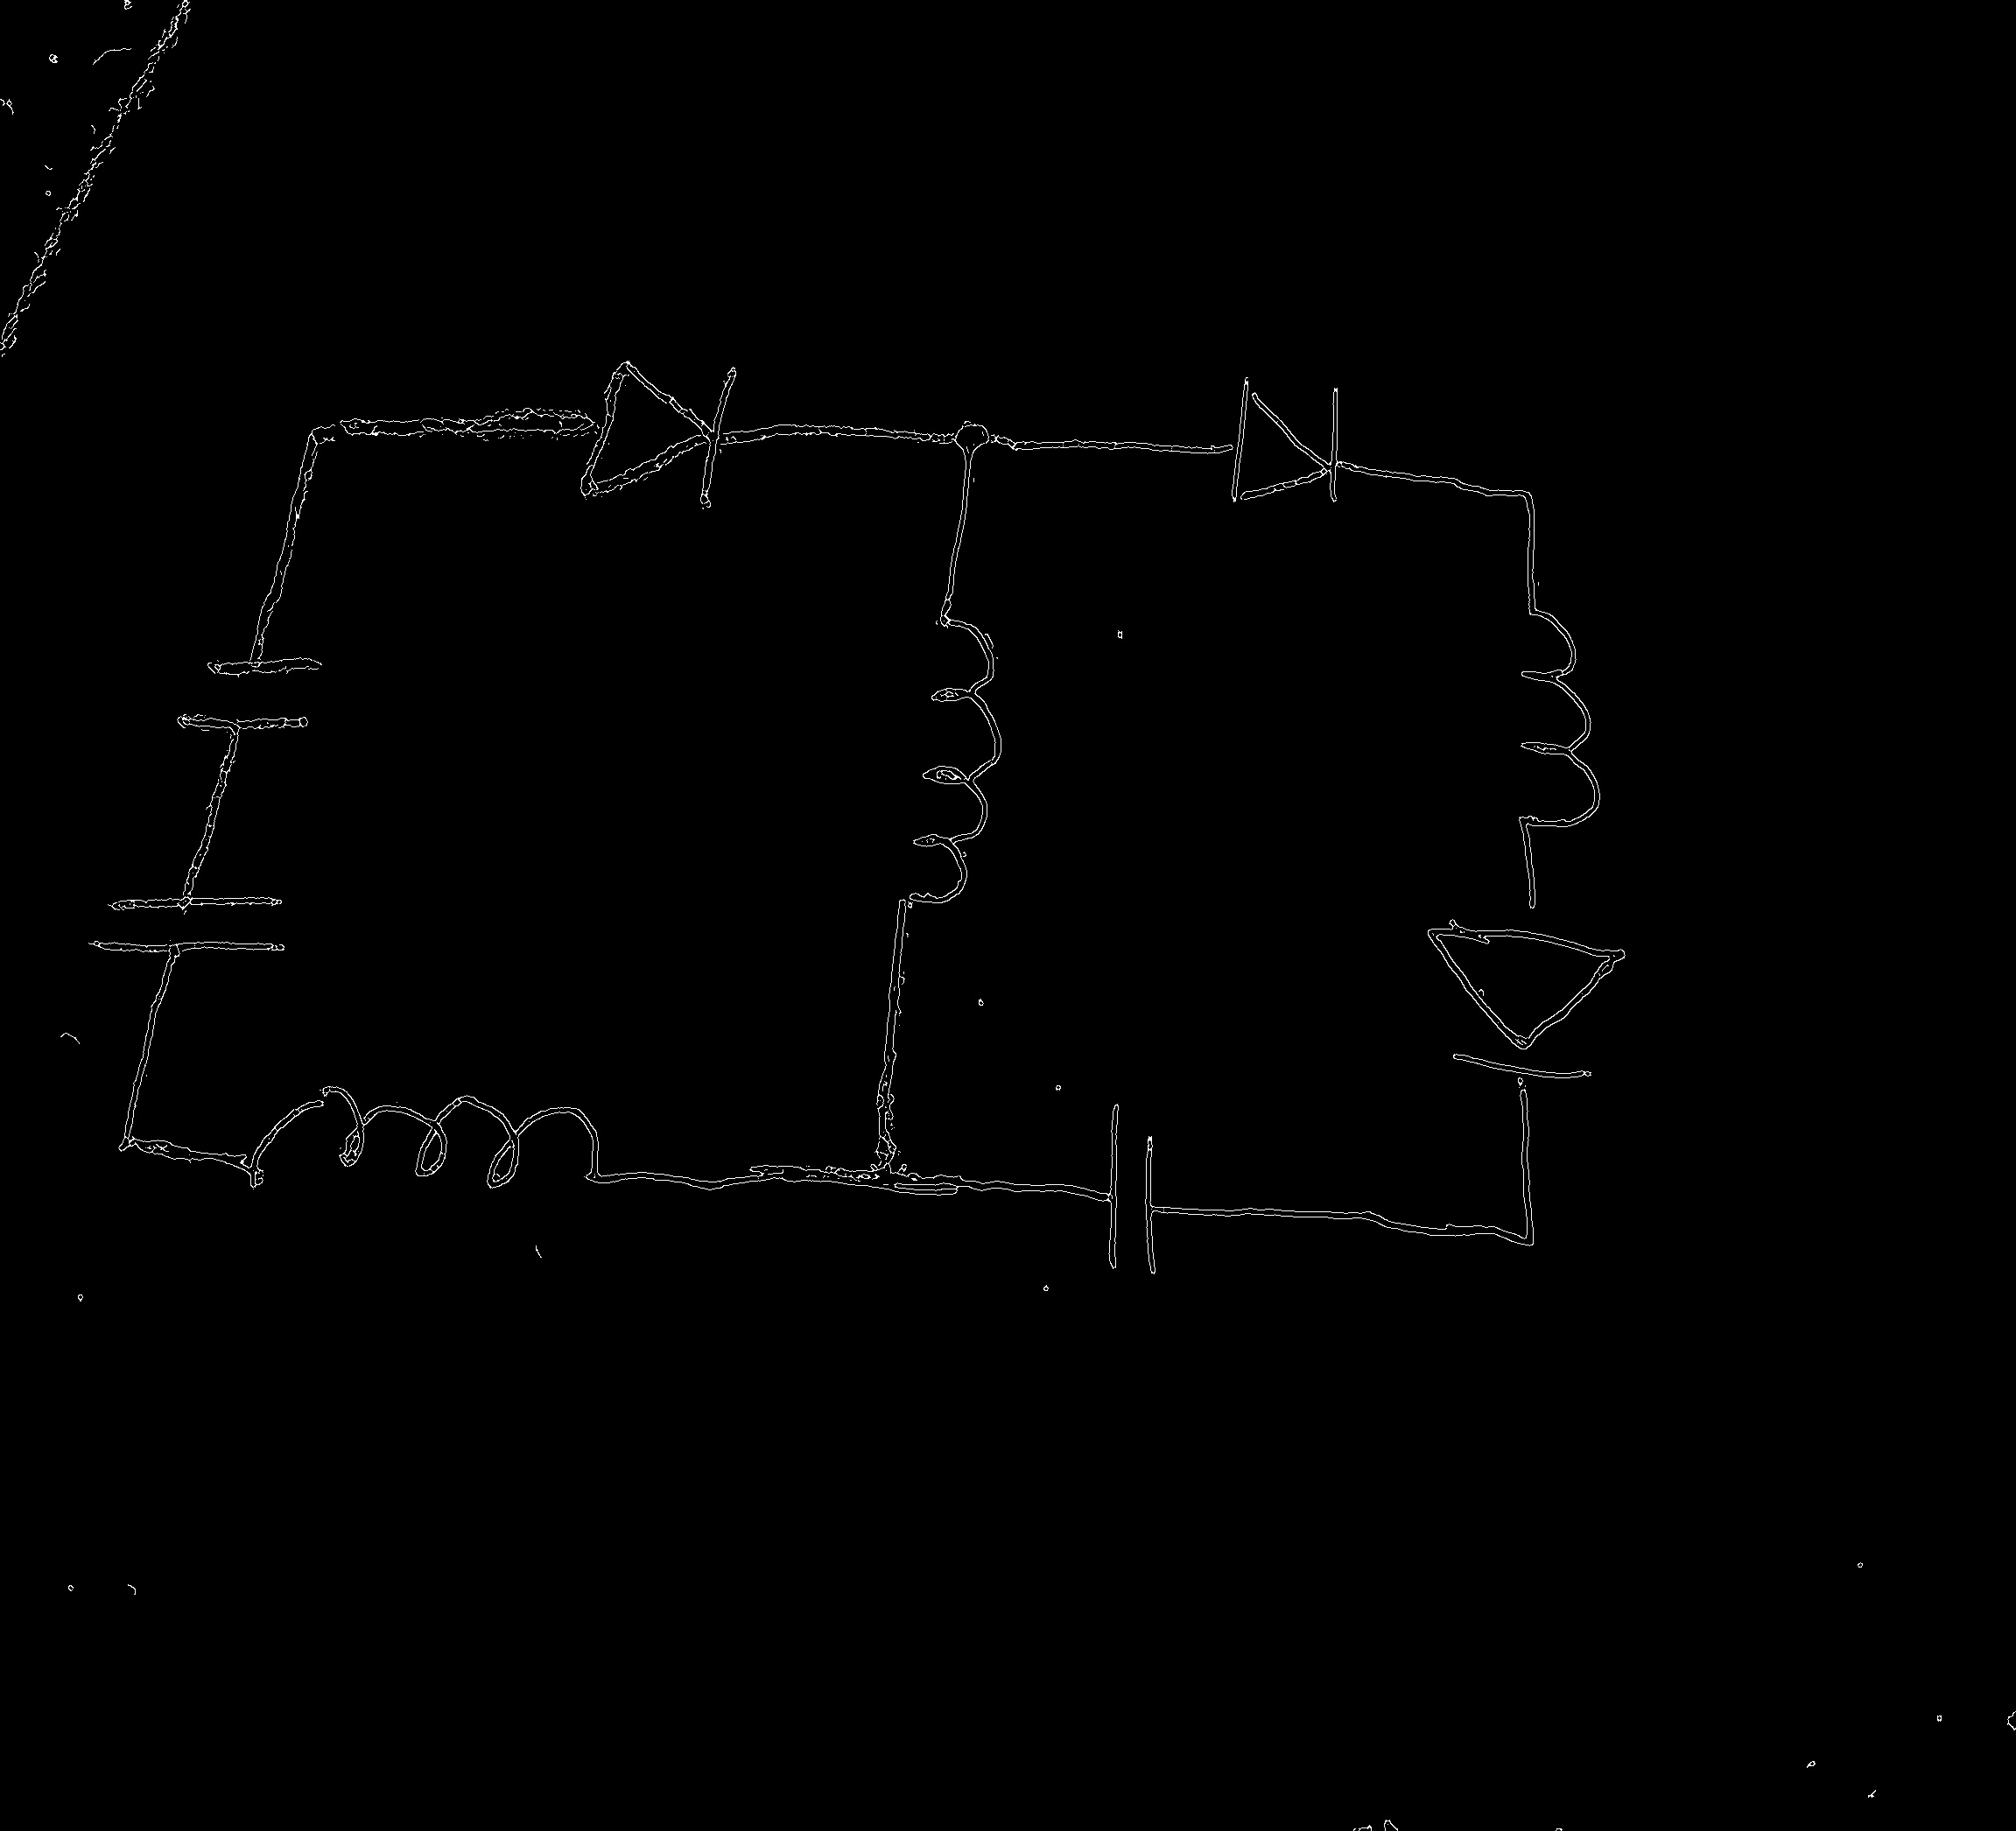capacitor: (88, 855, 292, 993), (167, 607, 332, 776), (1085, 1098, 1189, 1281)
diode: (1420, 879, 1630, 1112), (558, 353, 751, 526), (1201, 369, 1370, 523)
inductor: (227, 1062, 649, 1200), (877, 562, 1006, 952), (1499, 558, 1608, 865)
